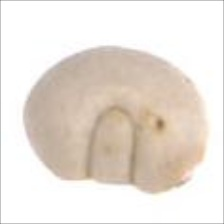L5: (85, 104, 138, 186)
L6: (22, 44, 209, 196)
